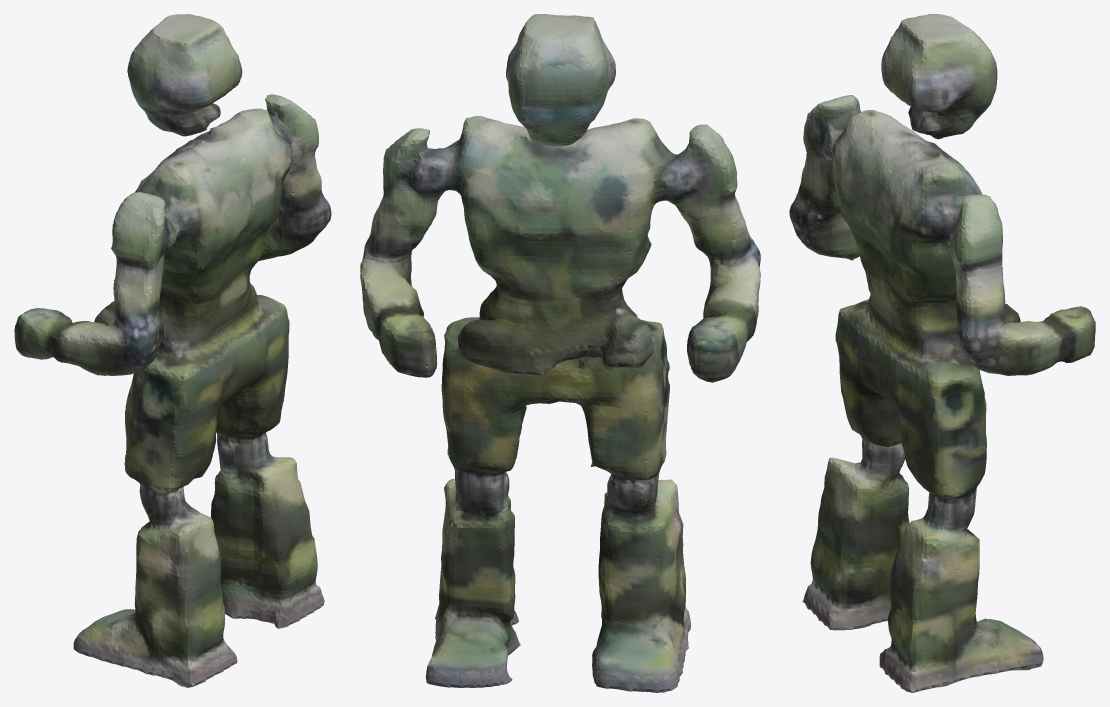
Rendered from full.glb.
3 views of the same model, side by side, from view 1: azimuth 30°, elevation 25°; view 2: azimuth 150°, elevation 25°; view 3: azimuth 270°, elevation 25° (orthographic). The views are drawn at different scales.
Parts seen in each view (by area): view 1: world; view 2: world; view 3: world.
Part boxes in pixels (x1,y1,x2,y2): world: (14,14,331,687); world: (360,14,760,692); world: (789,14,1095,692).
Bounding box in the file's own units: 1.14 × 1.99 × 0.9086.
